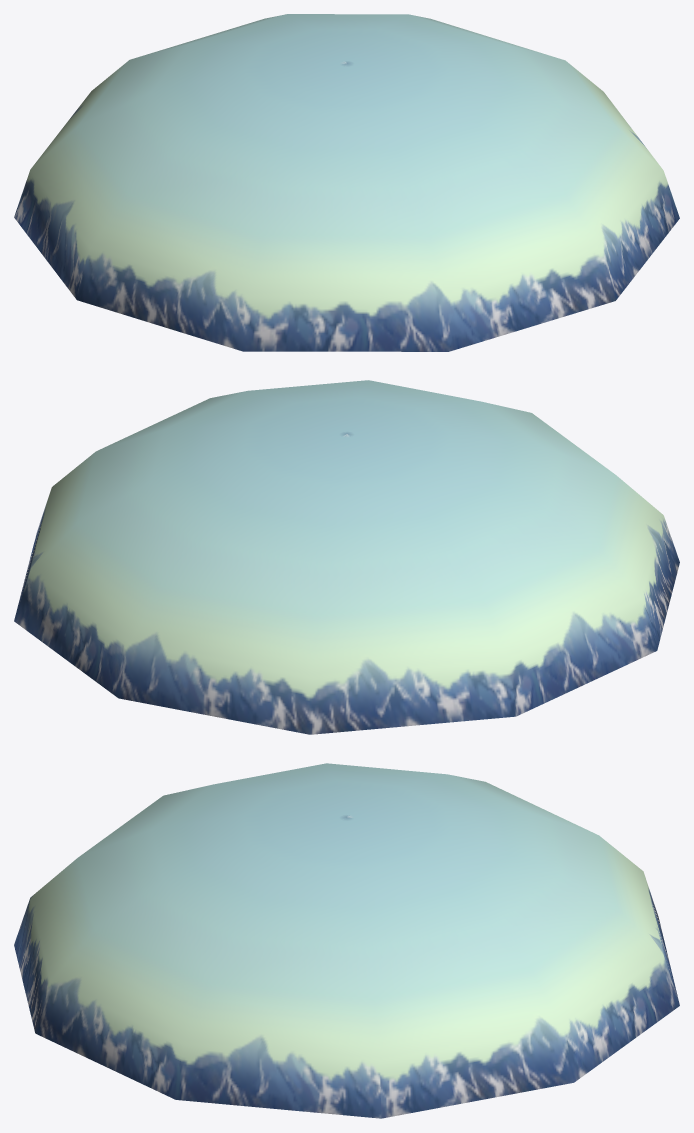
File: game.fbx
The picture shows the model from 3 angles, top to bottom: view 1: azimuth 30°, elevation 25°; view 2: azimuth 150°, elevation 25°; view 3: azimuth 270°, elevation 25°; orthographic projection. The views are drawn at different scales.
Visible parts, largest first — view 1: skydome_0; view 2: skydome_0; view 3: skydome_0.
Boxes of the visible parts, x1,y1,x2,y2 form: skydome_0: (14,14,679,351); skydome_0: (14,380,679,734); skydome_0: (14,763,679,1118).
Size of the model in its own units: 2085 by 577 by 2048.
